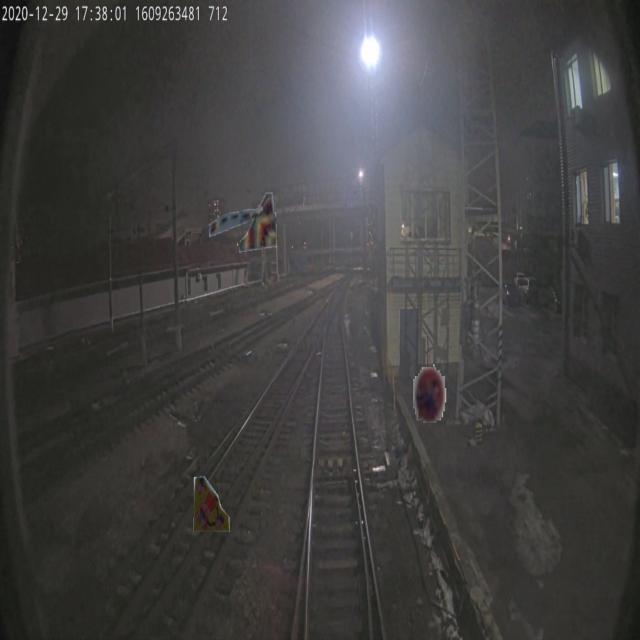floating object: (208, 189, 282, 253), (191, 472, 230, 536), (413, 358, 446, 422)
